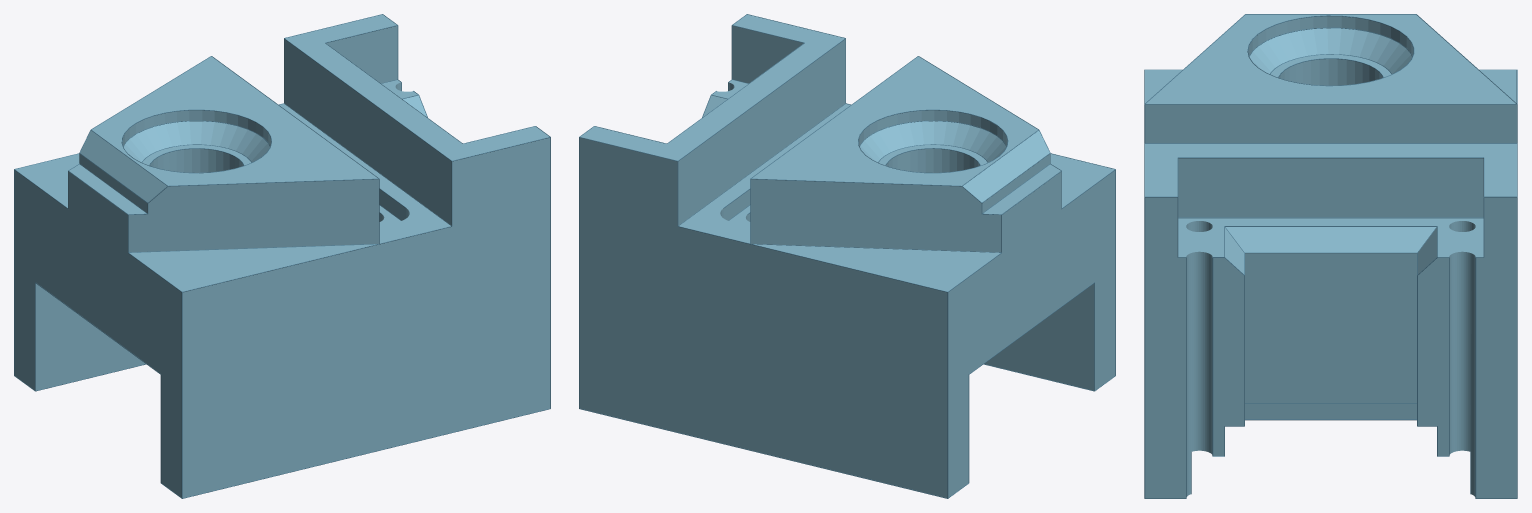
The model's file is section_cc_cad.glb.
3 renders of one model, left to right at view 1: azimuth 30°, elevation 25°; view 2: azimuth 150°, elevation 25°; view 3: azimuth 270°, elevation 25°, orthographic. The views are drawn at different scales.
Parts seen in each view (by area): view 1: section_cc_blue, cad_edge_lines; view 2: section_cc_blue, cad_edge_lines; view 3: section_cc_blue, cad_edge_lines.
Boxes of the visible parts, x1,y1,x2,y2 form: section_cc_blue: (14, 14, 550, 497); cad_edge_lines: (14, 14, 550, 498); section_cc_blue: (579, 14, 1115, 497); cad_edge_lines: (579, 14, 1115, 498); section_cc_blue: (1145, 14, 1516, 498); cad_edge_lines: (1144, 14, 1517, 498).
Size of the model in its own units: 71.13 by 50.12 by 56.13.
